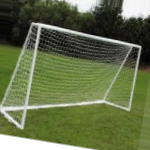goals: (1, 22, 142, 132)
